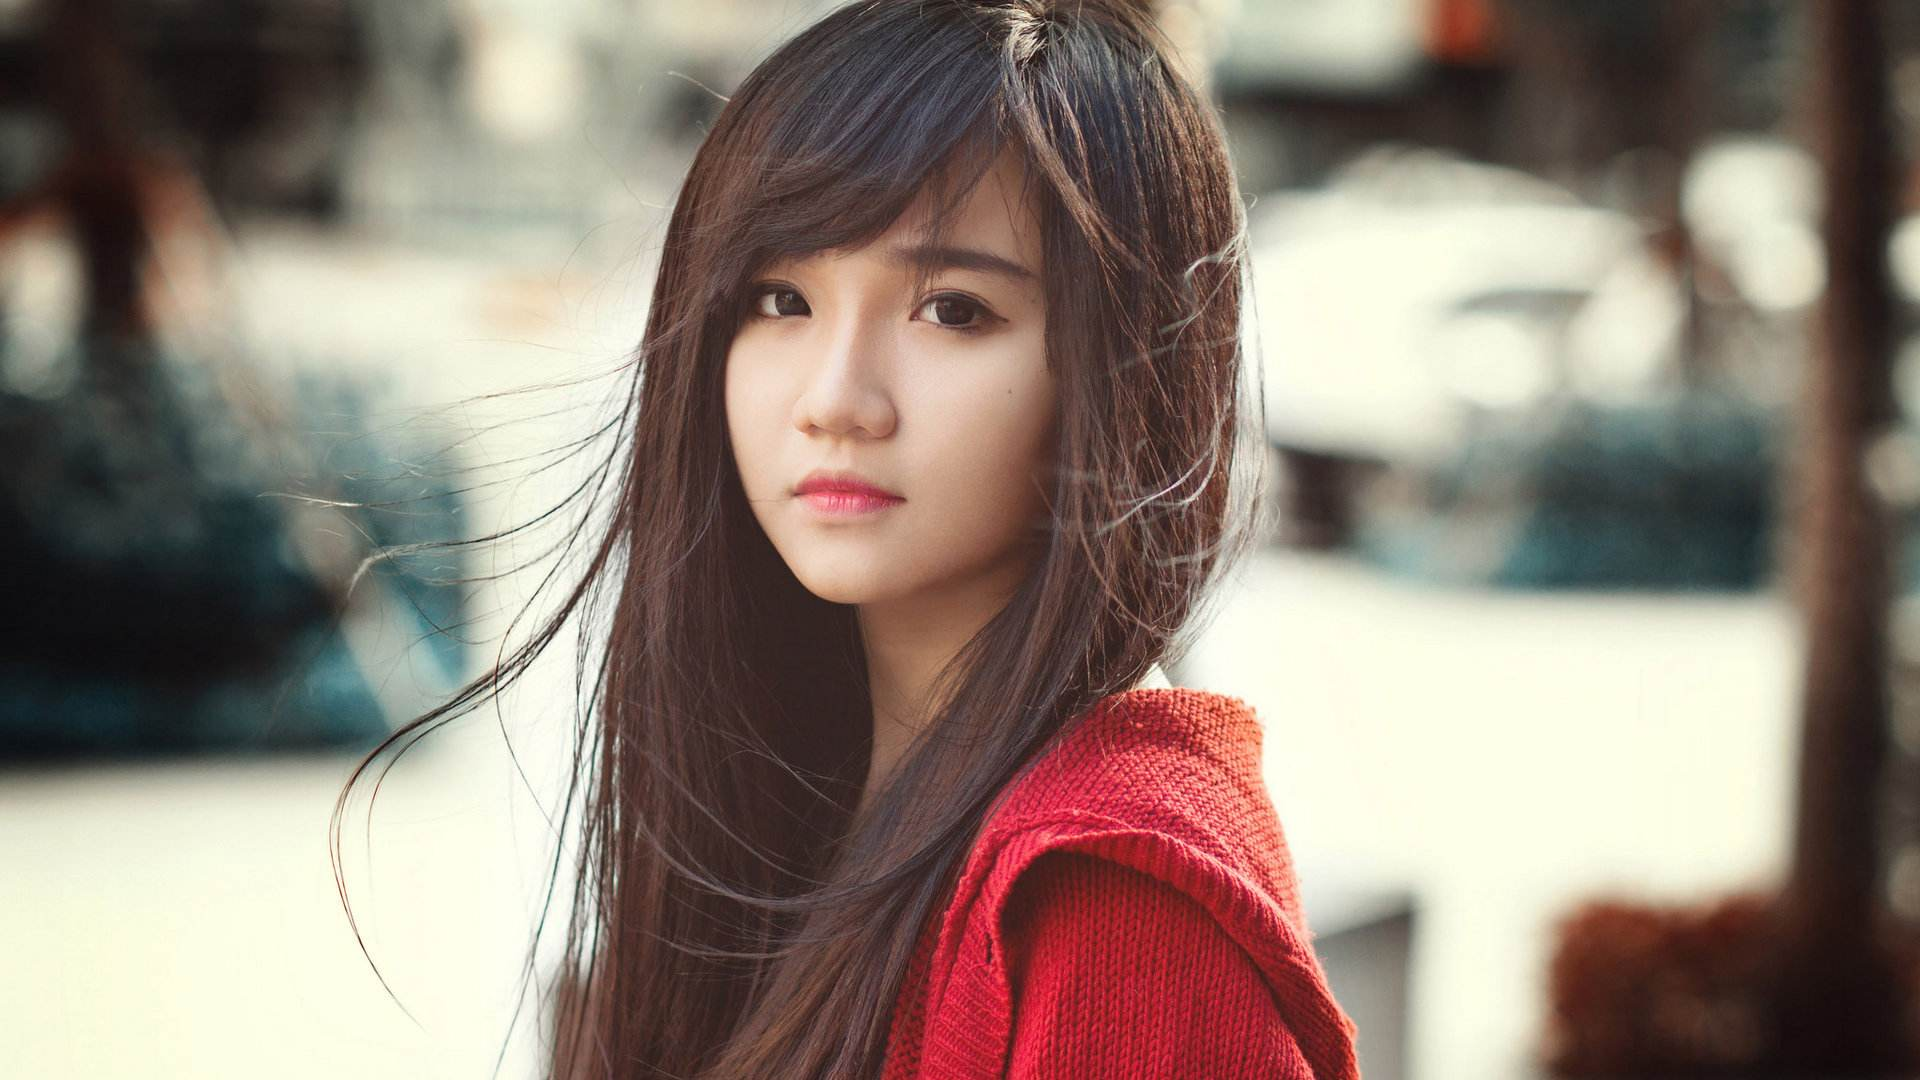person: (557, 7, 1459, 1057)
